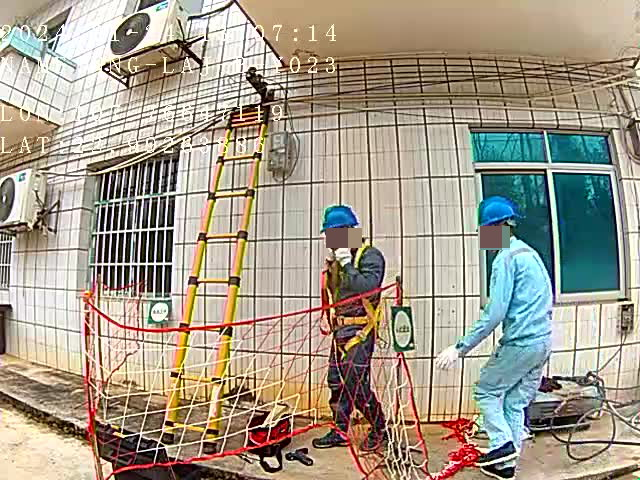downsuit: (478, 348, 552, 447), (327, 329, 389, 440)
halt: (475, 196, 520, 248), (320, 205, 361, 248)
inear: (337, 227, 352, 241)
intosign: (388, 304, 416, 352)
outear: (490, 221, 511, 242)
person: (452, 195, 558, 457), (313, 202, 390, 440)
safebelt: (313, 238, 389, 360)
upsuit: (465, 240, 556, 347), (317, 242, 386, 322)
wglove: (433, 346, 461, 373), (334, 244, 350, 266)
worksign: (146, 299, 173, 326)
